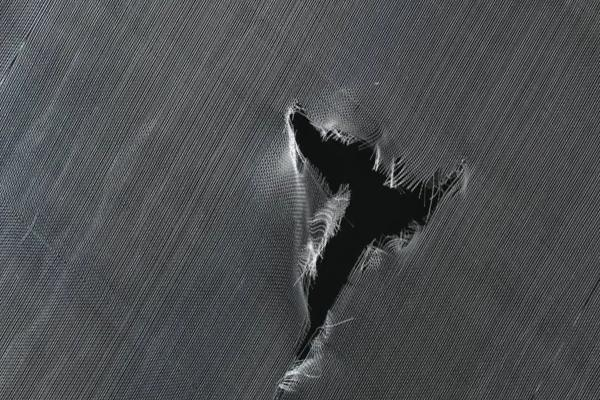hole: (277, 96, 470, 391)
